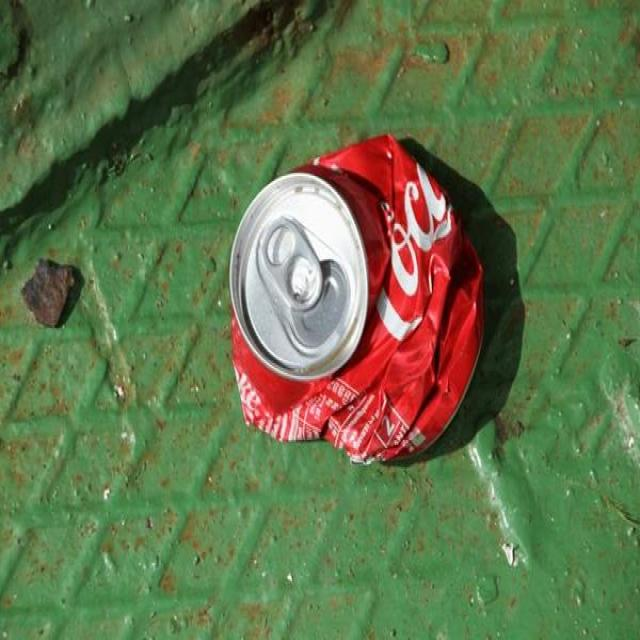can: (229, 134, 486, 466)
pop tab: (262, 216, 322, 310)
